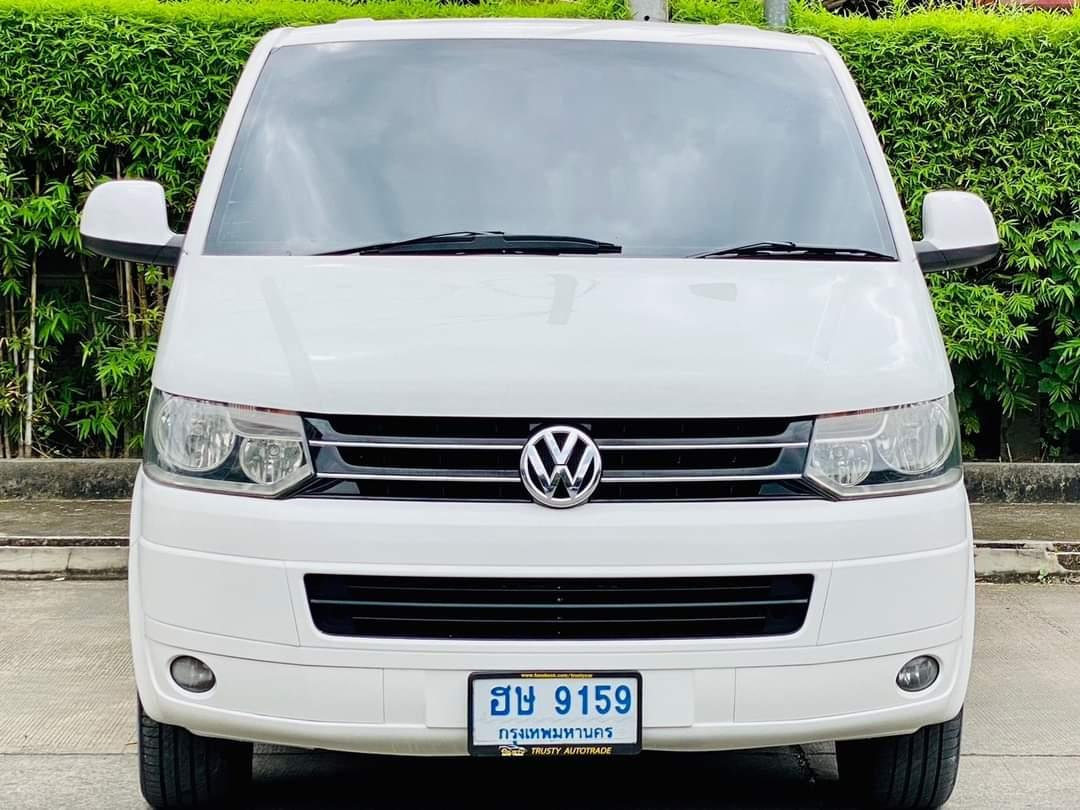license-plate: (469, 669, 642, 755)
